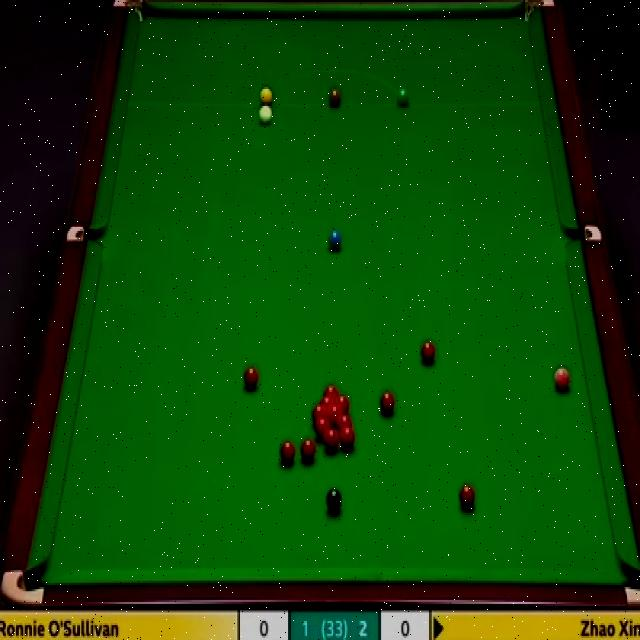black-ball: (326, 487, 342, 514)
blue-ball: (328, 229, 342, 248)
brown-ball: (328, 89, 342, 107)
green-ball: (396, 85, 411, 110)
pink-ball: (552, 366, 571, 392)
red-ball: (378, 389, 396, 417), (280, 437, 295, 465), (299, 438, 314, 466), (459, 484, 475, 509), (420, 340, 435, 365), (324, 428, 340, 451), (244, 366, 258, 392), (328, 404, 344, 426), (315, 416, 329, 440), (340, 428, 354, 449), (311, 405, 327, 423), (334, 395, 349, 414), (337, 415, 353, 432), (318, 395, 336, 407), (323, 383, 340, 395)
white-ball: (258, 105, 273, 125)
yellow-ball: (259, 86, 273, 105)
